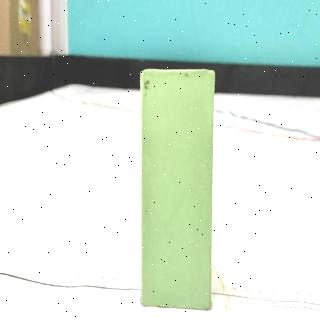greenbox: (140, 68, 214, 312)
